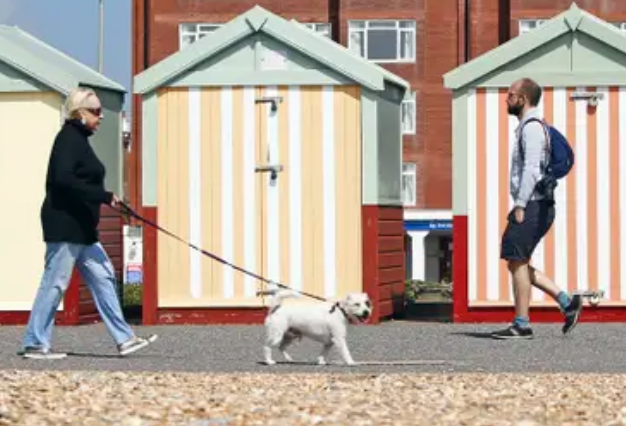Good: (43, 78, 571, 251)
